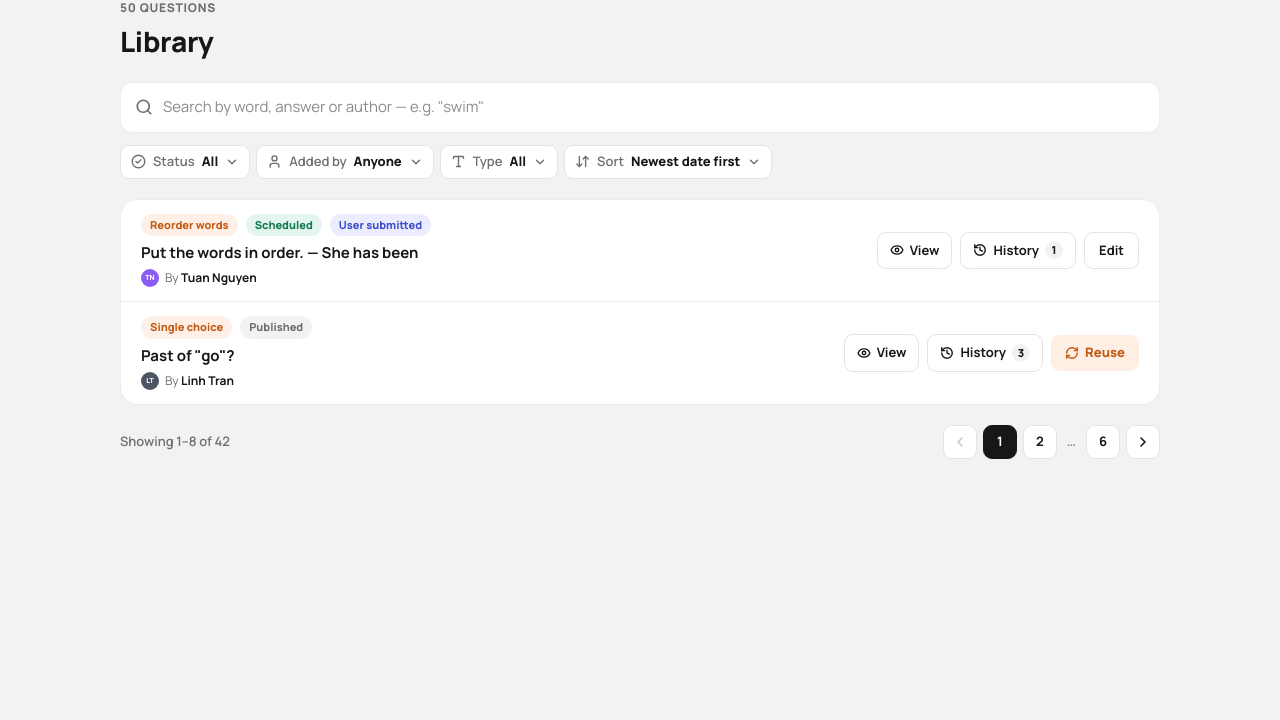
it: LibraryPage › opens View, then History
The width and height of the screenshot is (1280, 720).
Click the button "View" in the row of "Past of \"go\"?" at (882, 353), box [844,334,920,372]
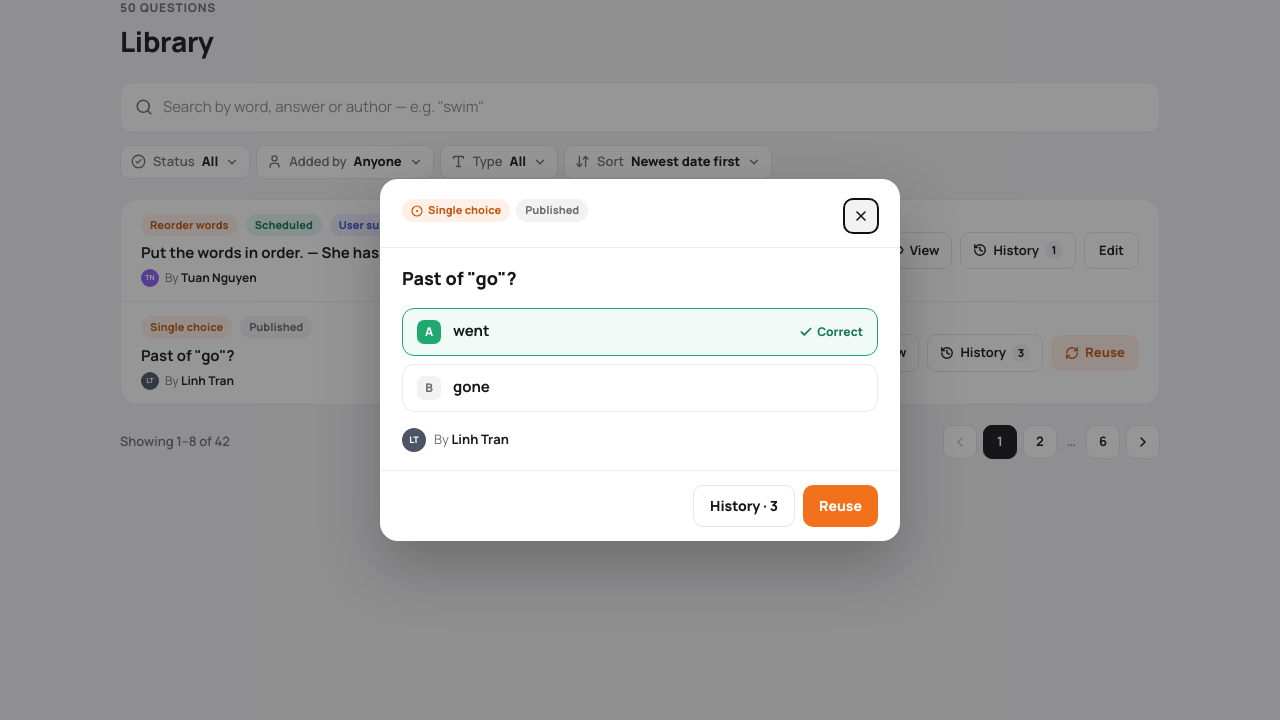
Now the text "Correct" is shown, box [799,324,863,340]
Click the button "History · 3" at (744, 506), box [693,485,795,527]
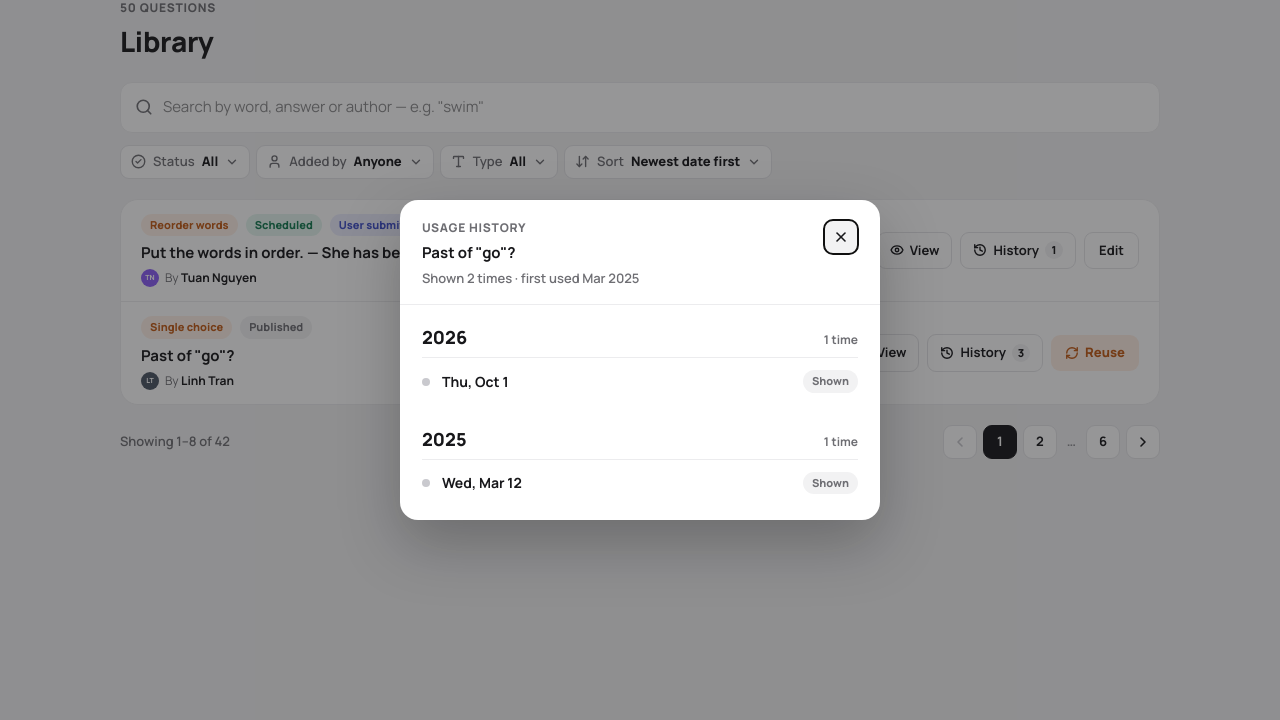
Now the text "Shown 2 times · first used Mar 2025" is shown, box [422,269,640,287]
Now the text "Thu, Oct 1" is shown, box [442,372,509,390]
